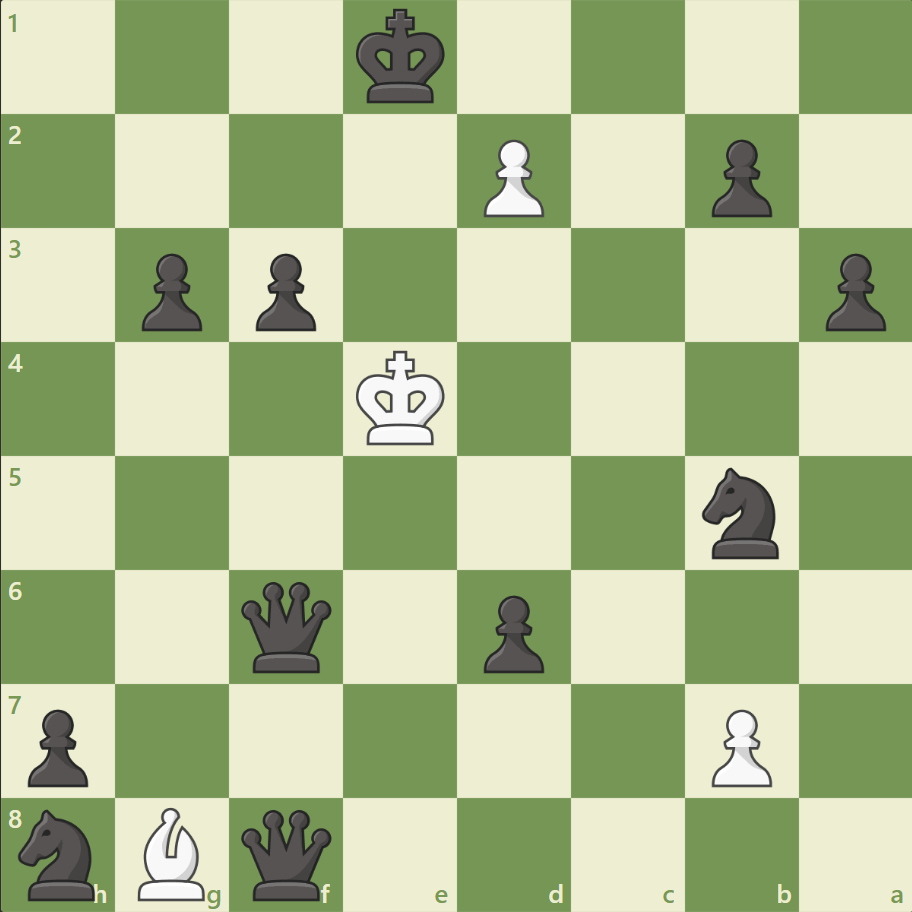B: (131, 801, 215, 904)
K: (351, 344, 451, 452)
P: (701, 700, 776, 791), (474, 132, 549, 223)
k: (351, 4, 451, 112)
n: (692, 461, 789, 564), (11, 802, 108, 904)
p: (20, 700, 95, 791), (474, 586, 549, 677), (247, 246, 322, 337), (133, 246, 208, 337), (701, 132, 776, 223), (815, 246, 889, 337)
q: (237, 576, 336, 676), (237, 804, 336, 903)
